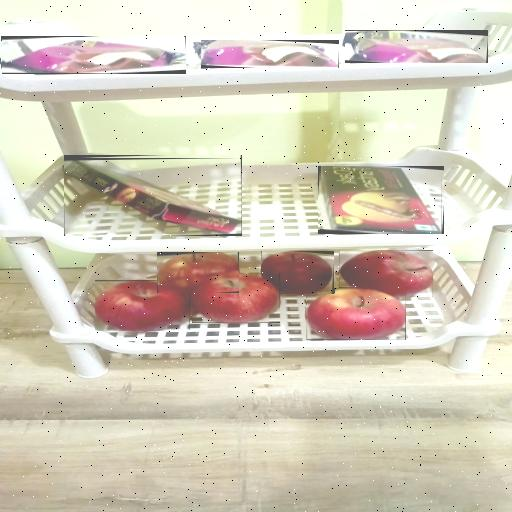Apple: (307, 288, 405, 340), (95, 280, 190, 331), (192, 273, 279, 323), (339, 250, 433, 296), (157, 252, 239, 293), (261, 251, 334, 294)
Choco Fills: (64, 161, 242, 234), (320, 166, 441, 234)
Choco Pie: (2, 37, 185, 73), (345, 31, 486, 63), (201, 40, 339, 68)
